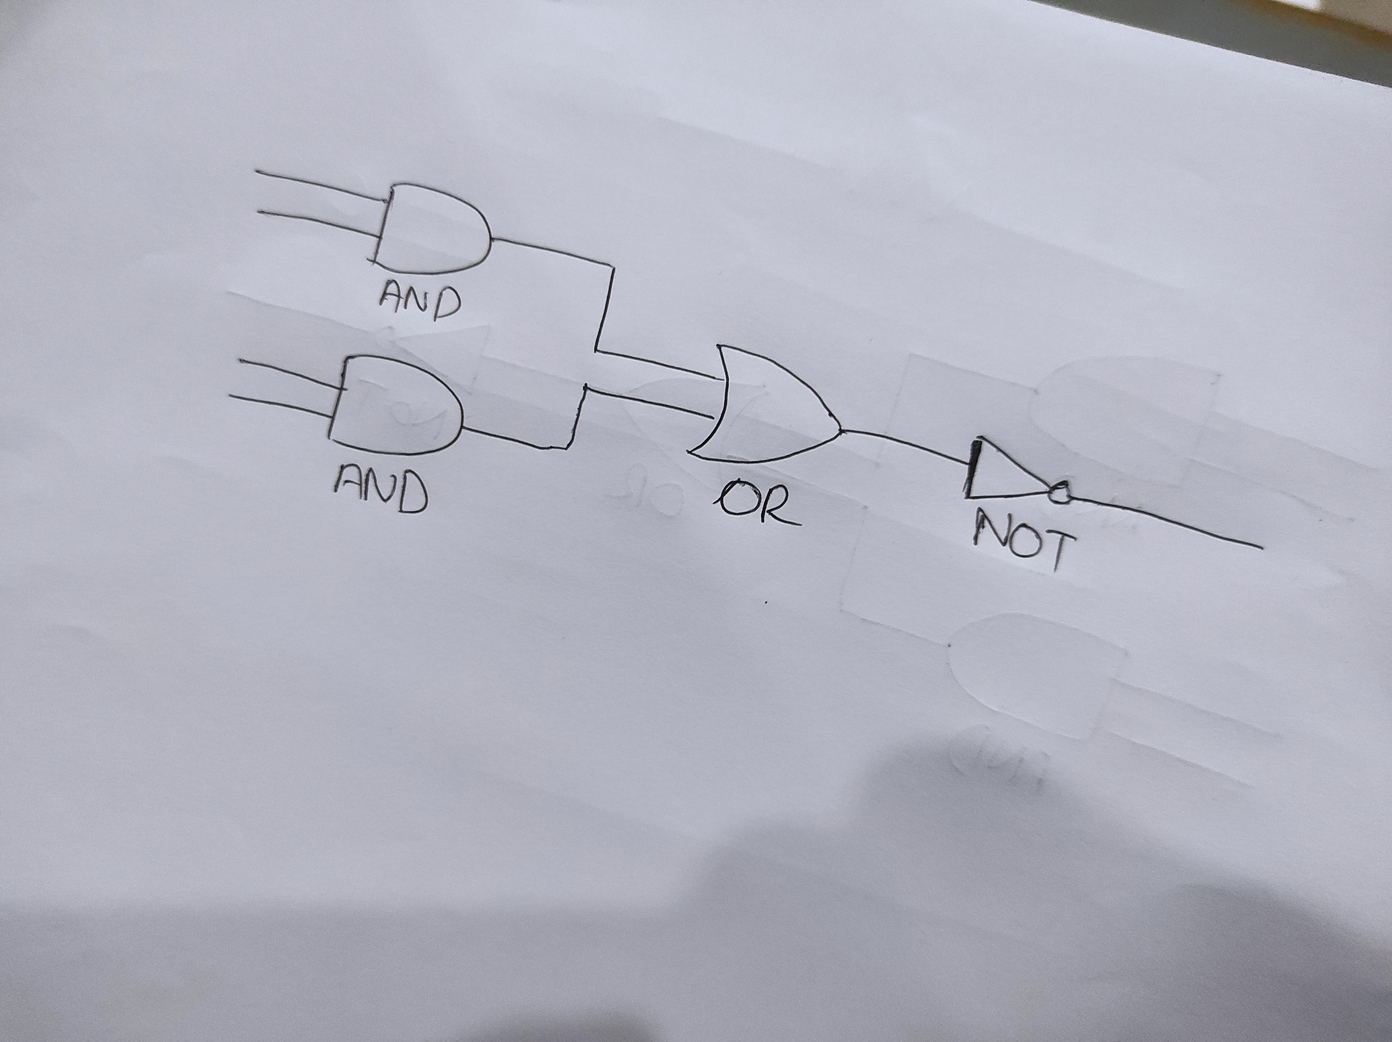and: (324, 351, 467, 458), (364, 178, 499, 277)
junction: (600, 257, 624, 280), (576, 378, 594, 400), (559, 437, 578, 458), (587, 344, 603, 361)
not: (958, 431, 1075, 510)
or: (682, 340, 855, 468)
terminal: (1251, 539, 1269, 558), (248, 162, 266, 180), (233, 354, 250, 370), (224, 386, 240, 402), (253, 205, 266, 219)
text: (967, 505, 1079, 574), (324, 459, 433, 521), (714, 473, 805, 526), (374, 276, 469, 324)
